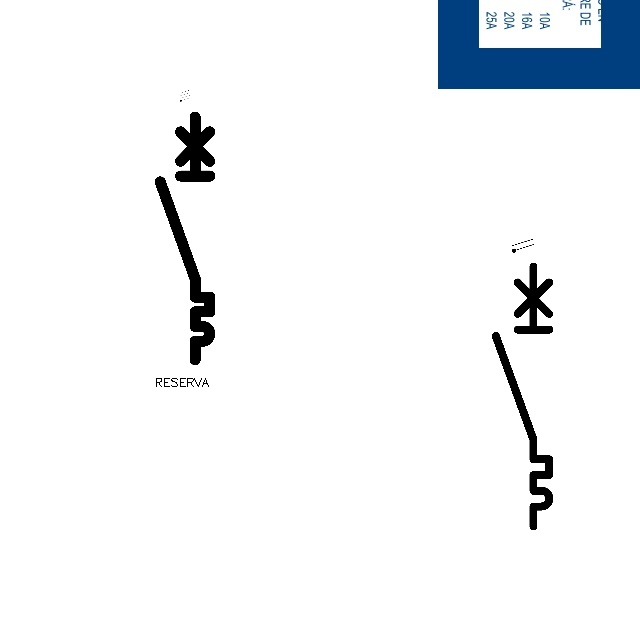interruptor_termomagnetico: (489, 259, 556, 532), (154, 110, 216, 365)
